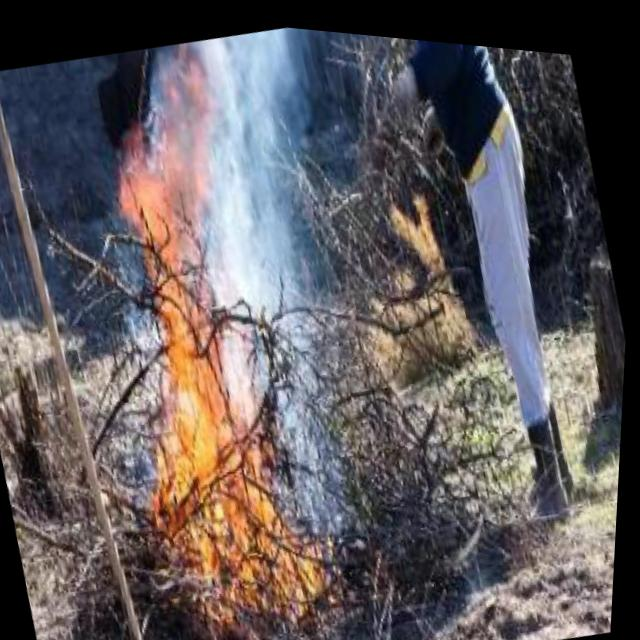Fire: (69, 135, 286, 607)
